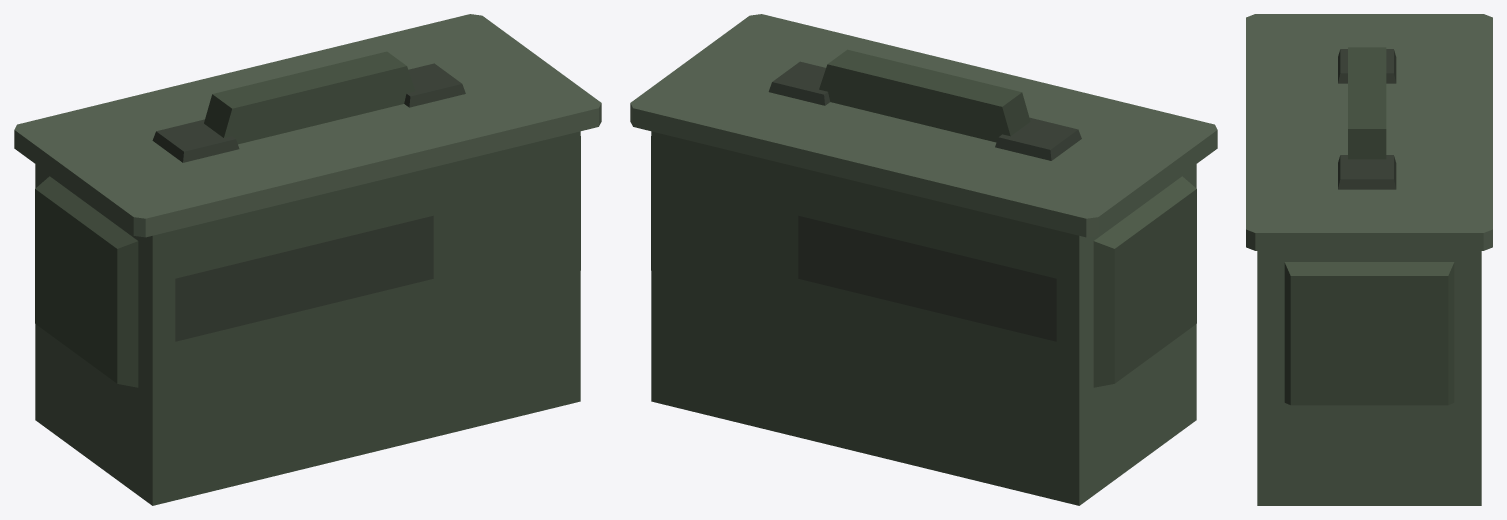
Rendered from SM_Prop_AmmoBox_02.glb.
The picture shows the model from 3 angles, left to right: view 1: azimuth 30°, elevation 25°; view 2: azimuth 150°, elevation 25°; view 3: azimuth 270°, elevation 25°; orthographic projection. The views are drawn at different scales.
Parts seen in each view (by area): view 1: SM_Prop_AmmoBox_02; view 2: SM_Prop_AmmoBox_02; view 3: SM_Prop_AmmoBox_02.
Boxes of the visible parts, <box> form: SM_Prop_AmmoBox_02: <box>14,14,601,505</box>; SM_Prop_AmmoBox_02: <box>630,14,1217,505</box>; SM_Prop_AmmoBox_02: <box>1246,14,1492,505</box>.
Size of the model in its own units: 0.5145 by 0.3483 by 0.2449.
Materials: 1 (1 with a texture image).
